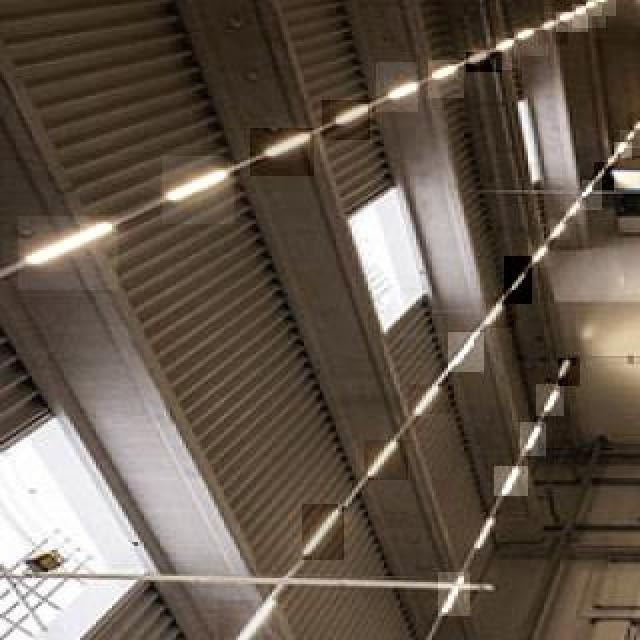fluorescent tube: (216, 596, 290, 640), (360, 422, 407, 489), (294, 505, 334, 567), (485, 462, 540, 505), (457, 507, 499, 562), (422, 51, 469, 98), (331, 100, 384, 140), (444, 329, 489, 373), (376, 75, 420, 118), (397, 389, 447, 424), (255, 127, 307, 160), (438, 569, 469, 622), (525, 388, 563, 428), (509, 422, 546, 456), (502, 268, 536, 296), (580, 176, 605, 208), (546, 216, 577, 240), (489, 38, 518, 62), (557, 355, 579, 377)
